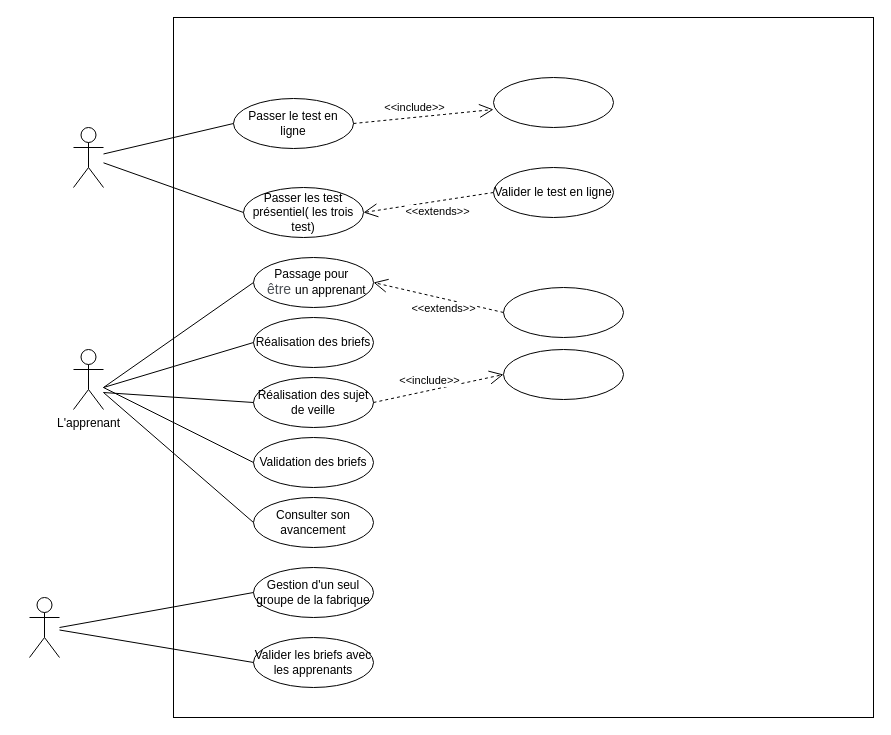
Image size: 891x735. Some labels were removed from this diagram. The centre of each missing label's shape, as x and y in pixels:
"Formateur" goes at point (44, 627).
"Le candidat" goes at point (88, 157).
"S'inscrir" goes at point (553, 102).
"Un formateur" goes at point (563, 374).
"Valider les test présentiel" goes at point (563, 312).
